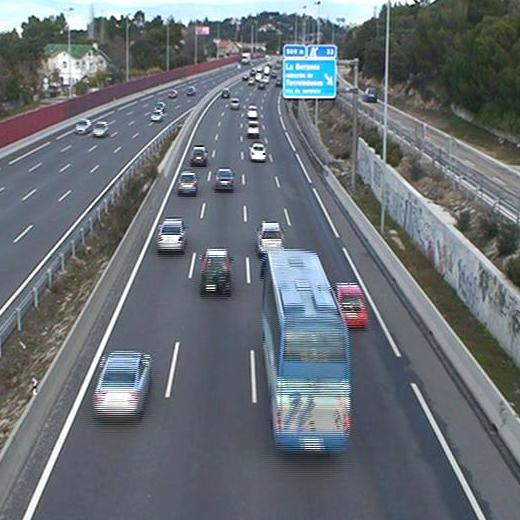bus: (258, 248, 352, 456)
car: (89, 350, 150, 414), (197, 248, 234, 294), (336, 281, 369, 329), (155, 219, 187, 250), (255, 220, 287, 248), (176, 172, 198, 192), (215, 167, 234, 189), (248, 142, 267, 160), (190, 146, 208, 163), (246, 119, 261, 134)
